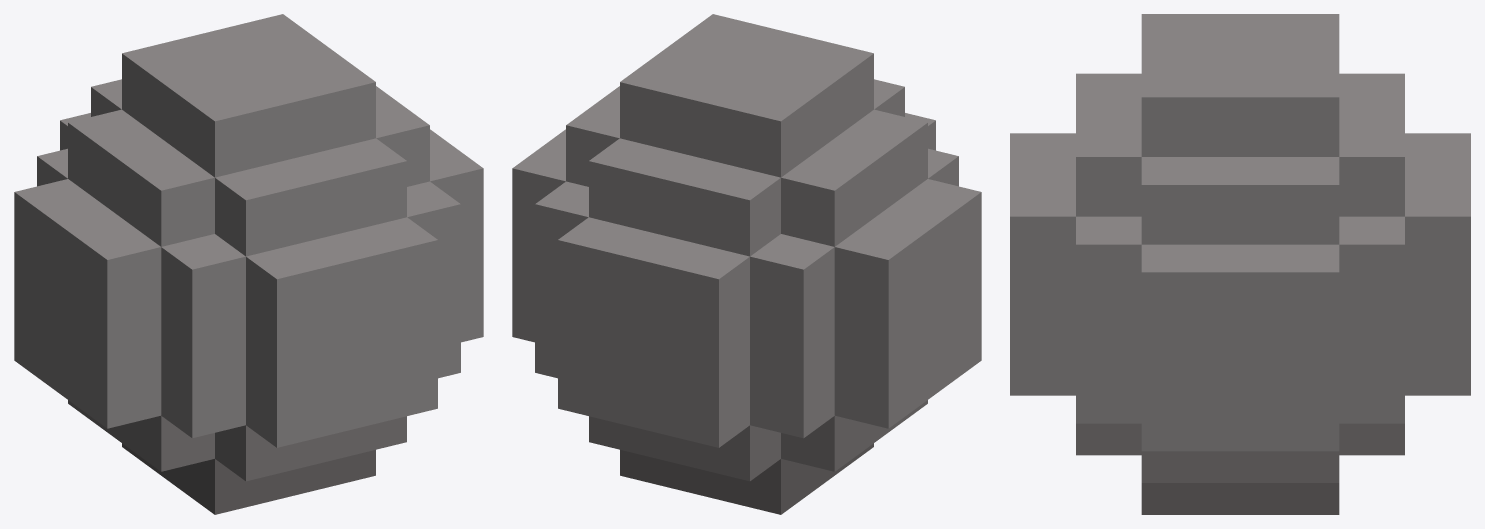
File: Pebble.glb
3 renders of one model, left to right at view 1: azimuth 30°, elevation 25°; view 2: azimuth 150°, elevation 25°; view 3: azimuth 270°, elevation 25°, orthographic. The views are drawn at different scales.
Visible parts, largest first — view 1: Cube.065, Cube.072, Cube.150, Cube.168, Cube.157, Cube.063, Cube.066, Cube.064, Cube.166, Cube.170, Cube.158, Cube.156 (+40 smaller); view 2: Cube.102, Cube.109, Cube.120, Cube.138, Cube.127, Cube.100, Cube.103, Cube.101, Cube.136, Cube.140, Cube.128, Cube.126 (+40 smaller); view 3: Cube.034, Cube.071, Cube.108, Cube.059, Cube.062, Cube.096, Cube.099, Cube.022, Cube.025, Cube.124, Cube.154, Cube.119 (+39 smaller).
Part boxes in pixels (left/top/right/bottom): Cube.065: left=76, top=224, right=161, bottom=316; Cube.072: left=130, top=155, right=214, bottom=246; Cube.150: left=215, top=164, right=299, bottom=256; Cube.168: left=246, top=243, right=330, bottom=335; Cube.157: left=161, top=234, right=245, bottom=325; Cube.063: left=184, top=85, right=268, bottom=177; Cube.066: left=76, top=350, right=161, bottom=428; Cube.064: left=76, top=294, right=161, bottom=372; Cube.166: left=246, top=313, right=330, bottom=391; Cube.170: left=246, top=369, right=330, bottom=447; Cube.158: left=161, top=360, right=245, bottom=438; Cube.156: left=161, top=303, right=245, bottom=381; Cube.102: left=834, top=224, right=919, bottom=316; Cube.109: left=781, top=155, right=865, bottom=246; Cube.120: left=696, top=164, right=780, bottom=256; Cube.138: left=665, top=243, right=749, bottom=335; Cube.127: left=750, top=234, right=834, bottom=325; Cube.100: left=727, top=85, right=811, bottom=177; Cube.103: left=834, top=350, right=919, bottom=428; Cube.101: left=834, top=294, right=919, bottom=372; Cube.136: left=665, top=313, right=749, bottom=391; Cube.140: left=665, top=369, right=749, bottom=447; Cube.128: left=750, top=360, right=834, bottom=438; Cube.126: left=750, top=303, right=834, bottom=381; Cube.034: left=1207, top=157, right=1273, bottom=244; Cube.071: left=1141, top=157, right=1207, bottom=244; Cube.108: left=1273, top=157, right=1339, bottom=244; Cube.059: left=1141, top=244, right=1207, bottom=331; Cube.062: left=1141, top=69, right=1207, bottom=156; Cube.096: left=1273, top=244, right=1339, bottom=331; Cube.099: left=1273, top=69, right=1339, bottom=156; Cube.022: left=1207, top=244, right=1273, bottom=331; Cube.025: left=1207, top=69, right=1273, bottom=156; Cube.124: left=1339, top=216, right=1404, bottom=304; Cube.154: left=1076, top=216, right=1141, bottom=304; Cube.119: left=1339, top=129, right=1404, bottom=216.
Size of the model in its own units: 7 by 7 by 7.
1 material, 1 textured.
